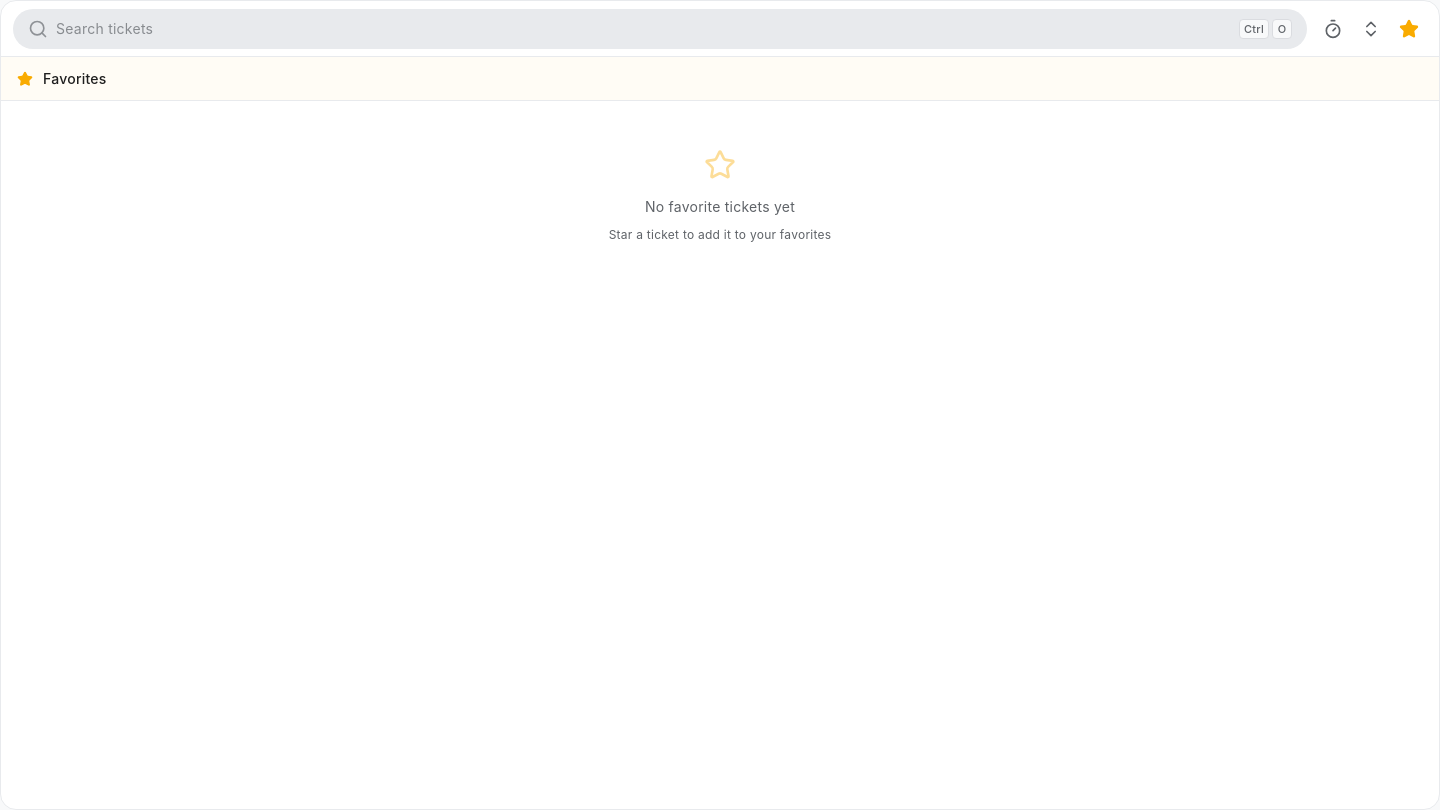
TicketList › favorites mode with search shows no-results instead of no-favorites
The image size is (1440, 810).
Type "nonexistent" into the field with placeholder "Search tickets" at (644, 29), box [56,19,1231,39]
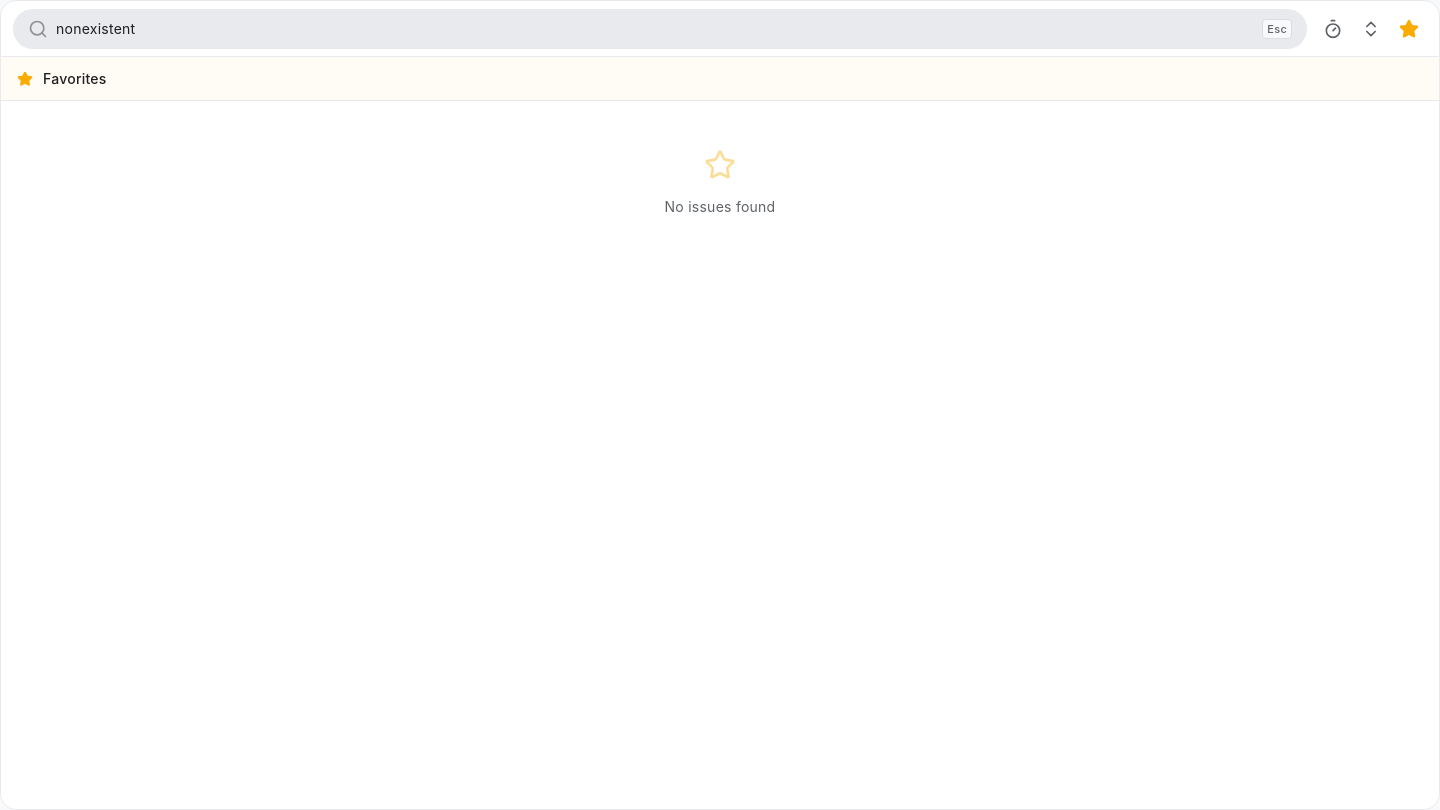
expect the text "No issues found" is shown: met, box [665,198,776,215]
expect the text "Star a ticket to add it to your favorites" is gone: met
